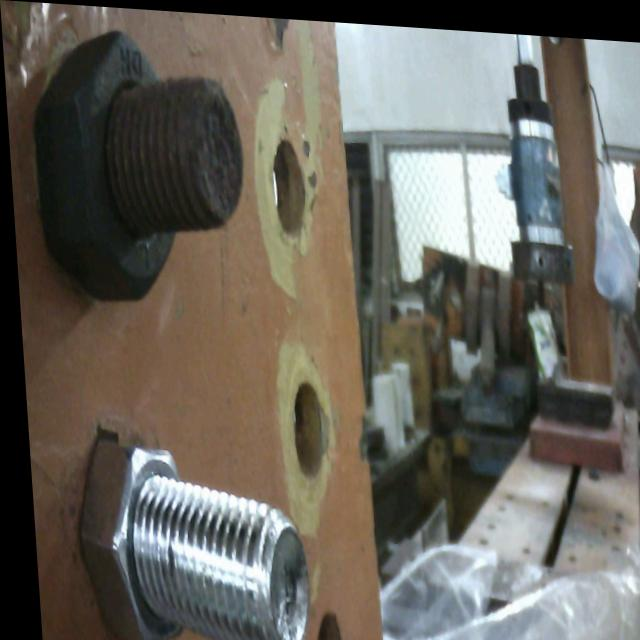Missing bolt: (284, 379, 325, 479), (267, 136, 308, 236), (308, 605, 337, 640)
Regular bolt: (69, 437, 310, 640)
Rusty bolt: (24, 19, 251, 315)
